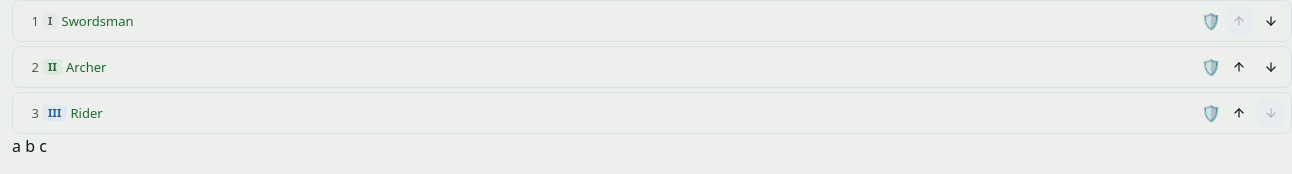
Test case: an arrow moves its row and says where it landed
Click the button named "Move Archer up".
click(1239, 67)  # box [1225,53,1253,81]
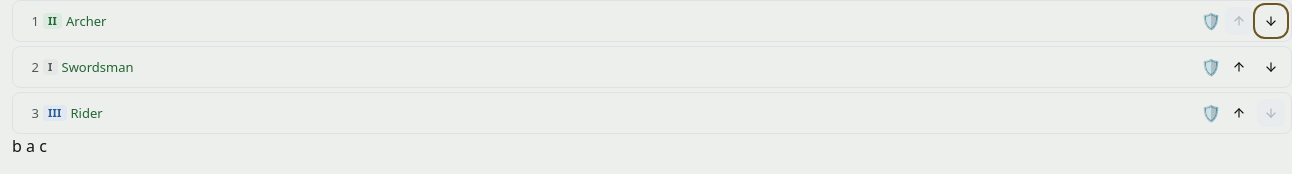
Now the text "b a c" is shown, box [12,135,47,157]
Click the button named "Move Archer down".
click(1271, 21)  # box [1257,7,1285,35]
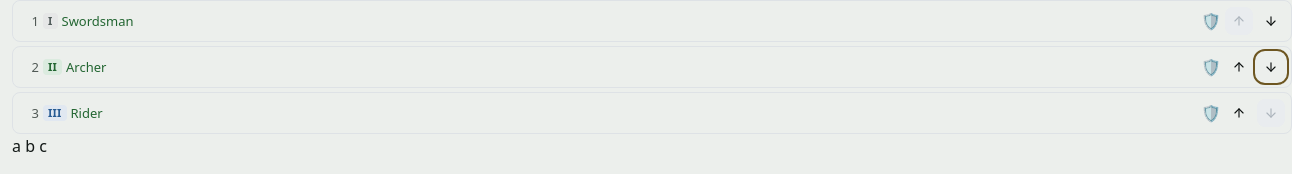
Now the text "a b c" is shown, box [12,135,47,157]
